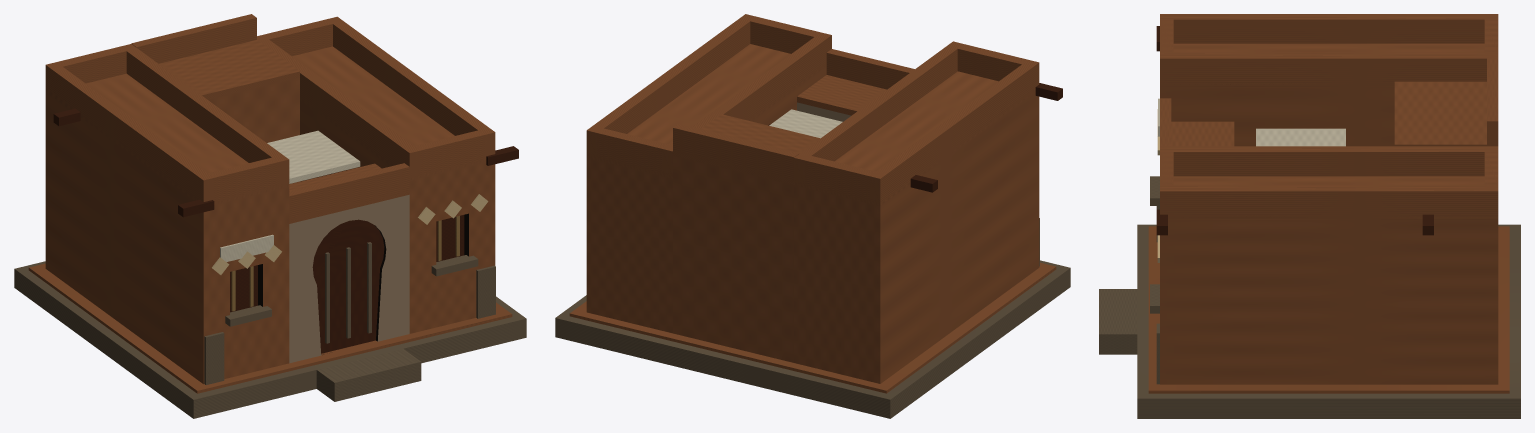
Rendered from Berber_House_Age2.fbx.
3 renders of one model, left to right at view 1: azimuth 30°, elevation 25°; view 2: azimuth 150°, elevation 25°; view 3: azimuth 270°, elevation 25°, orthographic. The views are drawn at different scales.
Visible parts, largest first — view 1: west_room, east_room, stone_foundation, entrance_room, horseshoe_door, west_roof_deck, west_parapet, east_roof_deck, courtyard_earthen_floor, west_parapet.001, east_parapet.001, link_roof (+19 smaller); view 2: west_room, north_room, east_room, stone_foundation, west_roof_deck, west_parapet, east_roof_deck, courtyard_earthen_floor, east_parapet.001, west_parapet.001, east_parapet, link_roof_parapet (+8 smaller); view 3: east_room, stone_foundation, east_parapet.001, west_parapet.001, west_room, east_parapet, west_parapet, courtyard_earthen_floor, link_roof, east_roof_deck, west_roof_deck, entrance_step (+8 smaller).
Part boxes in pixels (x1,y1,x2,y2): west_room: (45, 92, 289, 384); east_room: (300, 100, 495, 333); stone_foundation: (14, 261, 526, 418); entrance_room: (289, 194, 409, 363); horseshoe_door: (312, 219, 384, 353); west_roof_deck: (45, 73, 289, 204); west_parapet: (45, 62, 214, 201); east_roof_deck: (292, 46, 486, 180); courtyard_earthen_floor: (28, 263, 512, 393); west_parapet.001: (120, 44, 289, 185); east_parapet.001: (327, 16, 495, 159); link_roof: (159, 40, 299, 99); west_room: (794, 93, 1039, 383); north_room: (673, 155, 793, 362); east_room: (586, 66, 826, 333); stone_foundation: (555, 260, 1070, 418); west_roof_deck: (794, 71, 1035, 206); west_parapet: (869, 60, 1039, 203); east_roof_deck: (586, 44, 826, 178); courtyard_earthen_floor: (569, 262, 1056, 393); east_parapet.001: (586, 14, 755, 157); west_parapet.001: (794, 41, 963, 185); east_parapet: (662, 32, 831, 175); link_roof_parapet: (673, 124, 799, 181); east_room: (1160, 220, 1498, 384); stone_foundation: (1137, 224, 1520, 418); east_parapet.001: (1160, 185, 1498, 217); west_parapet.001: (1160, 53, 1498, 85); west_room: (1160, 88, 1394, 146); east_parapet: (1160, 146, 1498, 176); west_parapet: (1160, 14, 1498, 43); courtyard_earthen_floor: (1148, 226, 1509, 393); link_roof: (1394, 81, 1498, 146); east_roof_deck: (1168, 176, 1498, 220); west_roof_deck: (1160, 43, 1484, 87); entrance_step: (1099, 289, 1137, 354).
Bounding box in the file's own units: 368 × 237 × 374.
7 materials, 7 textured.
